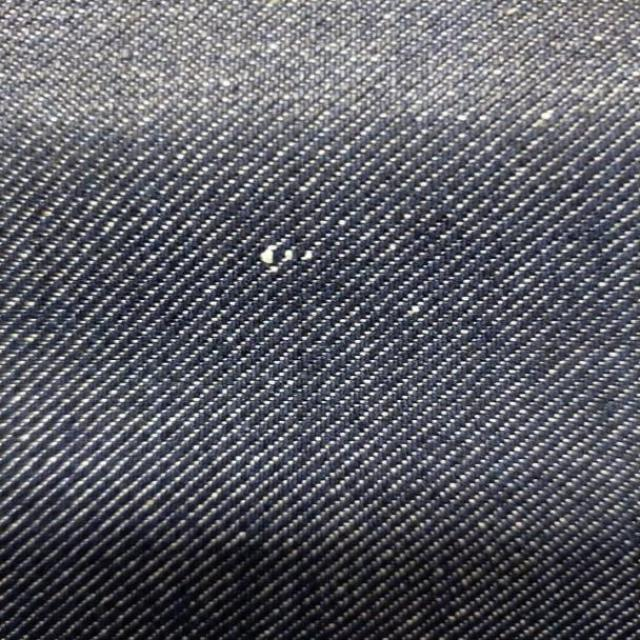Knot: (260, 243, 315, 271)
